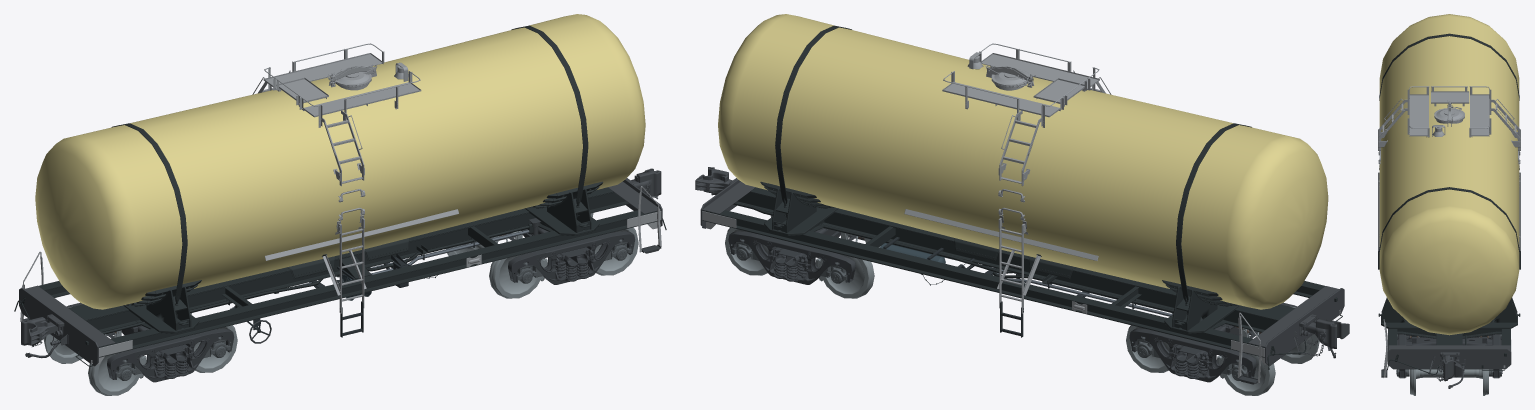
The model's file is tank_15_5103_07.glb.
3 renders of one model, left to right at view 1: azimuth 30°, elevation 25°; view 2: azimuth 150°, elevation 25°; view 3: azimuth 270°, elevation 25°, orthographic. The views are drawn at different scales.
Visible parts, largest first — view 1: tk_shell, tk_side_sill, tk_center_sill, tk_manhole, tk_coupler_A, tk_side_frame_A, tk_side_frame_B, tk_saddle, tk_outer_ladder, tk_wheelset_A, tk_band, tk_wheelset_B (+10 smaller); view 2: tk_shell, tk_side_sill, tk_center_sill, tk_manhole, tk_coupler_A, tk_saddle, tk_side_frame_A, tk_side_frame_B, tk_outer_ladder, tk_band, tk_wheelset_A, tk_wheelset_B (+10 smaller); view 3: tk_shell, tk_coupler_B, tk_manhole, tk_platform, tk_body_bolster, tk_band, tk_outer_ladder, tk_wheelset_B, tk_saddle, tk_side_frame_B, tk_bogie_bolster_B, tk_center_sill (+4 smaller).
Boxes of the visible parts, box(x1,y1,x2,y2) form: tk_shell: box(35, 14, 645, 309); tk_side_sill: box(38, 210, 661, 357); tk_center_sill: box(59, 187, 629, 343); tk_manhole: box(263, 43, 421, 117); tk_coupler_A: box(19, 285, 115, 366); tk_side_frame_A: box(23, 302, 271, 382); tk_side_frame_B: box(499, 231, 661, 284); tk_saddle: box(126, 181, 603, 330); tk_outer_ladder: box(252, 70, 458, 313); tk_wheelset_A: box(43, 306, 237, 395); tk_band: box(111, 25, 588, 301); tk_wheelset_B: box(446, 213, 638, 298); tk_shell: box(718, 14, 1328, 309); tk_side_sill: box(702, 210, 1324, 357); tk_center_sill: box(733, 187, 1294, 332); tk_manhole: box(942, 43, 1099, 117); tk_coupler_A: box(1248, 286, 1349, 366); tk_saddle: box(760, 181, 1237, 330); tk_side_frame_A: box(1129, 302, 1296, 384); tk_side_frame_B: box(728, 231, 864, 284); tk_outer_ladder: box(904, 70, 1111, 313); tk_band: box(775, 25, 1251, 301); tk_wheelset_A: box(1126, 306, 1319, 395); tk_wheelset_B: box(725, 215, 880, 298); tk_shell: box(1379, 14, 1519, 335); tk_coupler_B: box(1387, 345, 1511, 388); tk_manhole: box(1409, 91, 1489, 137); tk_platform: box(1378, 86, 1520, 348); tk_body_bolster: box(1378, 160, 1520, 338); tk_band: box(1379, 33, 1519, 254); tk_outer_ladder: box(1378, 98, 1520, 251); tk_wheelset_B: box(1410, 336, 1488, 395); tk_saddle: box(1381, 297, 1517, 322); tk_side_frame_B: box(1381, 334, 1501, 378); tk_bogie_bolster_B: box(1397, 336, 1501, 345); tk_center_sill: box(1436, 333, 1466, 365).
Size of the model in its own units: 12.41 by 4.62 by 3.06.
